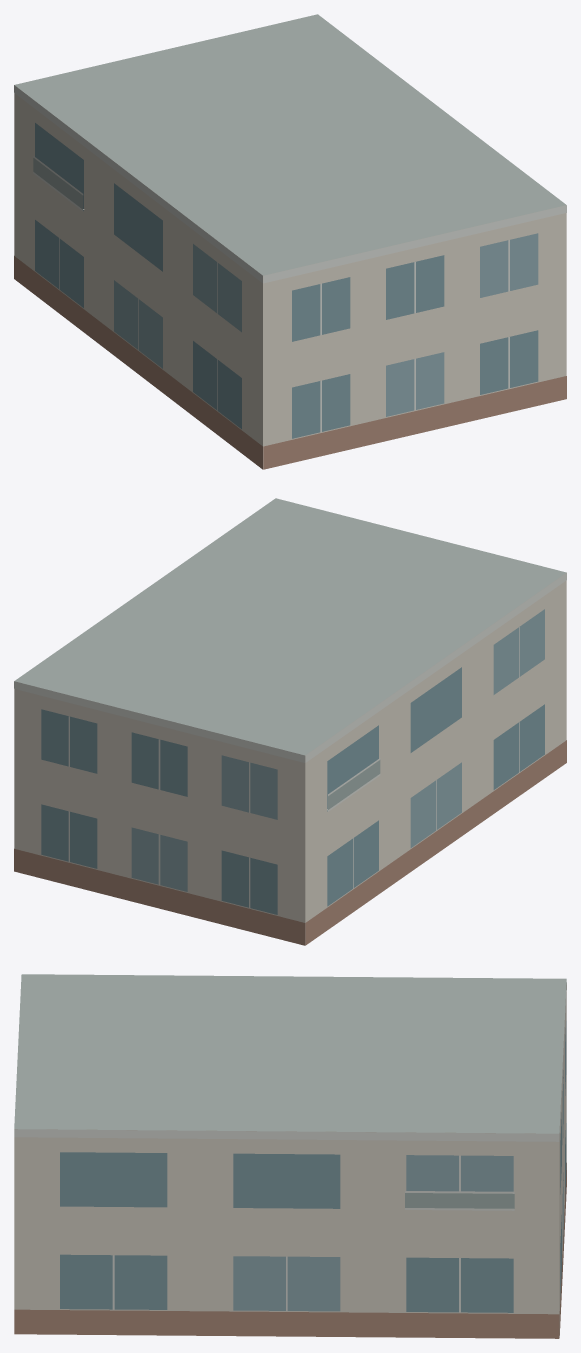
The model's file is survey-upis-32765812.glb.
The picture shows the model from 3 angles, top to bottom: view 1: azimuth 30°, elevation 25°; view 2: azimuth 150°, elevation 25°; view 3: azimuth 270°, elevation 25°; orthographic projection. The views are drawn at different scales.
Parts seen in each view (by area): view 1: survey-upis-32765812.tmp; view 2: survey-upis-32765812.tmp; view 3: survey-upis-32765812.tmp.
Part boxes in pixels (box(x1,y1,x2,y2)): survey-upis-32765812.tmp: box(14, 14, 566, 469); survey-upis-32765812.tmp: box(14, 498, 566, 945); survey-upis-32765812.tmp: box(14, 974, 566, 1338).
Bounding box in the file's own units: 10.19 × 6.1 × 14.91.
